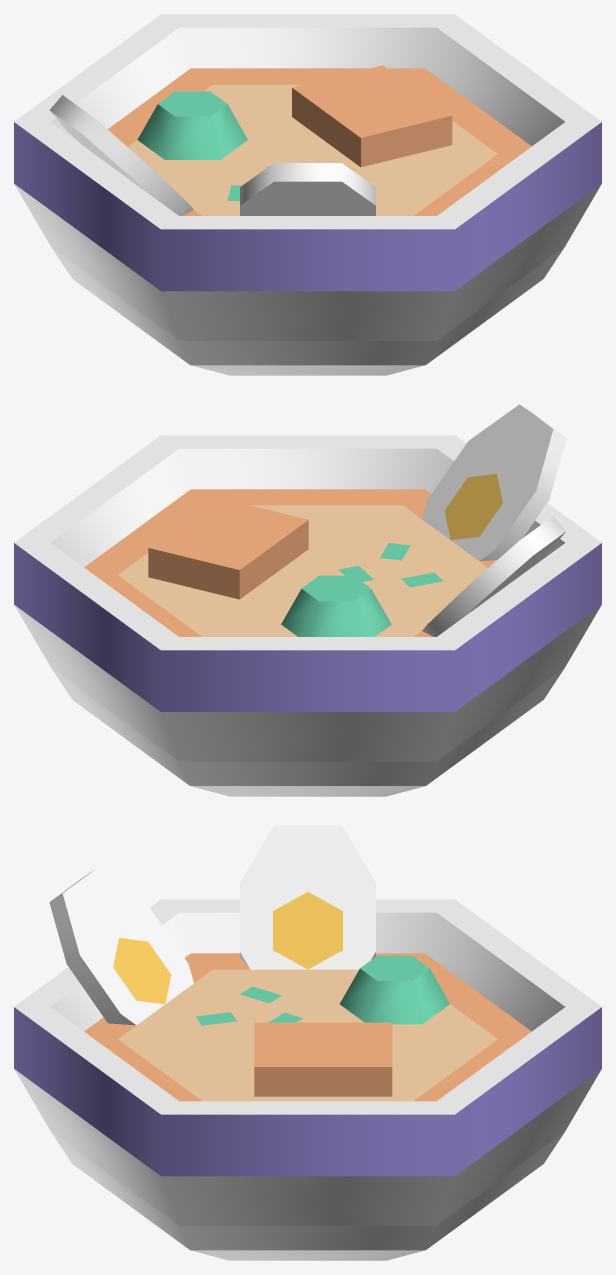
Rendered from Bowl Broth.glb.
The picture shows the model from 3 angles, top to bottom: view 1: azimuth 30°, elevation 25°; view 2: azimuth 150°, elevation 25°; view 3: azimuth 270°, elevation 25°; orthographic projection.
Parts seen in each view (by area): view 1: Bowl Broth; view 2: Bowl Broth; view 3: Bowl Broth.
Part boxes in pixels (x1,y1,x2,y2): Bowl Broth: [14, 14, 601, 375]; Bowl Broth: [14, 404, 601, 796]; Bowl Broth: [14, 825, 601, 1260].
Bounding box in the file's own units: 0.2339 × 0.129 × 0.2577.
